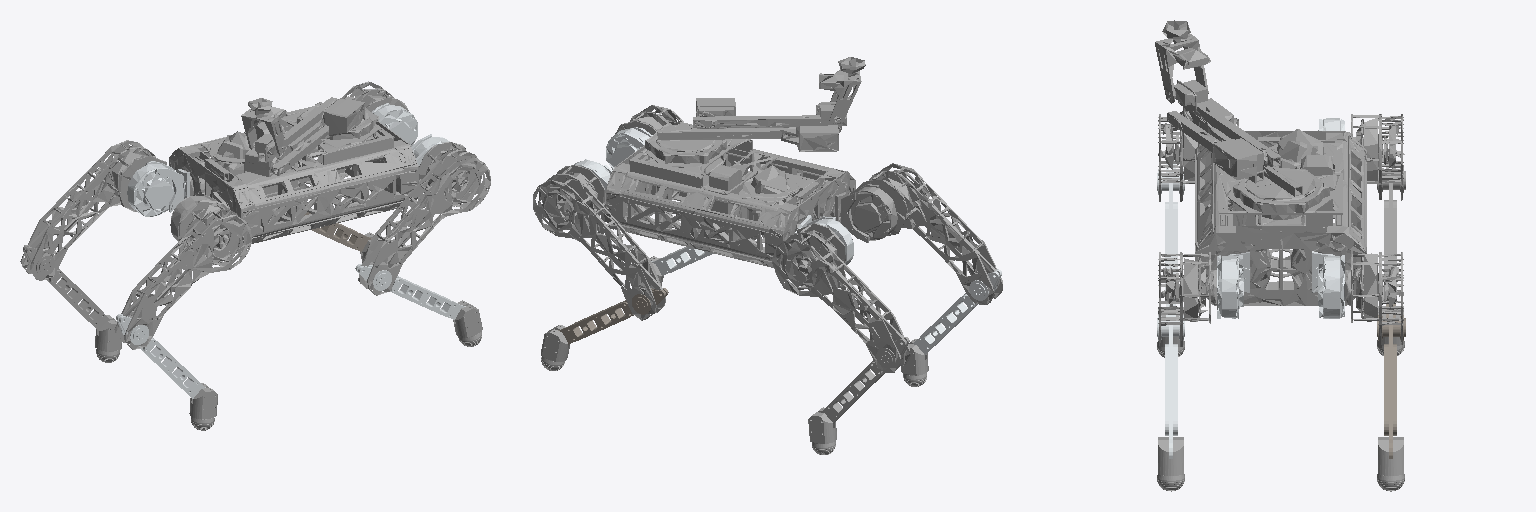
URDF robot description (dog3_arm):
<?xml version="1.0" encoding="utf-8"?>
<!-- This URDF was automatically created by SolidWorks to URDF Exporter! Originally created by Stephen Brawner (brawner@gmail.com) 
     Commit Version: 1.6.0-4-g7f85cfe  Build Version: 1.6.7995.38578
     For more information, please see http://wiki.ros.org/sw_urdf_exporter -->
<robot
  name="dog3_arm">
  <link
    name="base">
    <inertial>
      <origin
        xyz="0.035252 0.004313 0.0946672052498224"
        rpy="0 0 0" />
      <mass
        value="7.24597891756188" />
      <inertia
        ixx="0.057234"
        ixy="-0.000124"
        ixz="-0.034704"
        iyy="0.203287"
        iyz="-0.001212"
        izz="0.208364" />
    </inertial>
    <visual>
      <origin
        xyz="0 0 0"
        rpy="0 0 0" />
      <geometry>
        <mesh
          filename="package://dog3_arm/meshes/base_link.stl" />
      </geometry>
      <material
        name="">
        <color
          rgba="0.698039215686274 0.698039215686274 0.698039215686274 1" />
      </material>
    </visual>
    <collision>
      <origin
        xyz="0 0 0"
        rpy="0 0 0" />
      <geometry>
        <mesh
          filename="package://dog3_arm/meshes/base_link.stl" />
      </geometry>
    </collision>
  </link>
  <link
    name="FL_hip">
    <inertial>
      <origin
        xyz="0.009270 -0.000389 0.046230"
        rpy="0 0 0" />
      <mass
        value="0.742831583247133" />
      <inertia
        ixx="0.000975"
        ixy="-0.000005"
        ixz="-0.000026"
        iyy="0.000636"
        iyz="0.000000"
        izz="0.000507" />
    </inertial>
    <visual>
      <origin
        xyz="0 0 0"
        rpy="0 0 0" />
      <geometry>
        <mesh
          filename="package://dog3_arm/meshes/left_front1.stl" />
      </geometry>
      <material
        name="">
        <color
          rgba="0.898039215686275 0.917647058823529 0.929411764705882 1" />
      </material>
    </visual>
    <collision>
      <origin
        xyz="0 0 0"
        rpy="0 0 0" />
      <geometry>
        <mesh
          filename="package://dog3_arm/meshes/left_front1.stl" />
      </geometry>
    </collision>
  </link>
  <joint
    name="FL_hip_joint"
    type="revolute">
    <origin
      xyz="0.198599827436973 0.0699998874434311 0.0620002761469703"
      rpy="1.5707963267949 0 1.5707963267949" />
    <parent
      link="base" />
    <child
      link="FL_hip" />
    <axis
      xyz="0 0 1" />
    <limit
      lower="-0.7"
      upper="1.5"
      effort="30"
      velocity="30" />
  </joint>
  <link
    name="FL_thigh">
    <inertial>
      <origin
        xyz="0.026990 0.004545 0.041077"
        rpy="0 0 0" />
      <mass
        value="1.18836148782368" />
      <inertia
        ixx="0.001301"
        ixy="-0.000458"
        ixz="-0.000702"
        iyy="0.005001"
        iyz="-0.000121"
        izz="0.005249" />
    </inertial>
    <visual>
      <origin
        xyz="0 0 0"
        rpy="0 0 0" />
      <geometry>
        <mesh
          filename="package://dog3_arm/meshes/left_front2.stl" />
      </geometry>
      <material
        name="">
        <color
          rgba="0.698039215686274 0.698039215686274 0.698039215686274 1" />
      </material>
    </visual>
    <collision>
      <origin
        xyz="0 0 0"
        rpy="0 0 0" />
      <geometry>
        <mesh
          filename="package://dog3_arm/meshes/left_front2.stl" />
      </geometry>
    </collision>
  </link>
  <joint
    name="FL_thigh_joint"
    type="revolute">
    <origin
      xyz="0.0358 0 0.0530001125564165"
      rpy="-1.57079632679489 0.862002562998004 -1.5707963267949" />
    <parent
      link="FL_hip" />
    <child
      link="FL_thigh" />
    <axis
      xyz="0 0 1" />
    <limit
      lower="-2.4"
      upper="2.4"
      effort="30"
      velocity="30" />
  </joint>
  <link
    name="FL_calf">
    <inertial>
      <origin
        xyz="0.050122 0.000000 -0.016133"
        rpy="0 0 0" />
      <mass
        value="0.239198906199937" />
      <inertia
        ixx="0.000050"
        ixy="0.000000"
        ixz="0.000001、"
        iyy="0.001375"
        iyz="0.000000"
        izz="0.001370" />
    </inertial>
    <visual>
      <origin
        xyz="0 0 0"
        rpy="0 0 0" />
      <geometry>
        <mesh
          filename="package://dog3_arm/meshes/left_front3.stl" />
      </geometry>
      <material
        name="">
        <color
          rgba="0.647058823529412 0.619607843137255 0.588235294117647 1" />
      </material>
    </visual>
    <collision>
      <origin
        xyz="0 0 0"
        rpy="0 0 0" />
      <geometry>
        <mesh
          filename="package://dog3_arm/meshes/left_front3.stl" />
      </geometry>
    </collision>
  </link>
  <joint
    name="FL_calf_joint"
    type="revolute">
    <origin
      xyz="0.229999871872566 0 0.0797500000002906"
      rpy="0 0 -1.84947207075745" />
    <parent
      link="FL_thigh" />
    <child
      link="FL_calf" />
    <axis
      xyz="0 0 1" />
    <limit
      lower="-1.1"
      upper="1.1"
      effort="30"
      velocity="30" />
  </joint>
  <link
    name="FL_foot">
    <inertial>
      <origin
        xyz="-0.007799 -0.000002 0.037914"
        rpy="0 0 0" />
      <mass
        value="0.0835602371686811" />
      <inertia
        ixx="0.000048"
        ixy="0.000000"
        ixz="0.000006"
        iyy="0.000051"
        iyz="0.000000"
        izz="0.000023" />
    </inertial>
    <visual>
      <origin
        xyz="0 0 0"
        rpy="0 0 0" />
      <geometry>
        <mesh
          filename="package://dog3_arm/meshes/left_front4.stl" />
      </geometry>
      <material
        name="">
        <color
          rgba="0.698039215686274 0.698039215686274 0.698039215686274 1" />
      </material>
    </visual>
    <collision>
      <origin
        xyz="0 0 0"
        rpy="0 0 0" />
      <geometry>
        <mesh
          filename="package://dog3_arm/meshes/left_front4.stl" />
      </geometry>
    </collision>
  </link>
  <joint
    name="FL_foot_joint"
    type="fixed">
    <origin
      xyz="0.26744 0.042436 -0.0161"
      rpy="1.5708 0 -0.58333" />
    <parent
      link="FL_calf" />
    <child
      link="FL_foot" />
    <axis
      xyz="0 0 0" />
  </joint>
  <link
    name="FR_hip">
    <inertial>
      <origin
        xyz="0.009270 -0.000281 0.046395"
        rpy="0 0 0" />
      <mass
        value="0.742831583203656" />
      <inertia
        ixx="0.000976"
        ixy="-0.000004"
        ixz="-0.000024"
        iyy="0.000637"
        iyz="0.000000"
        izz="0.000507" />
    </inertial>
    <visual>
      <origin
        xyz="0 0 0"
        rpy="0 0 0" />
      <geometry>
        <mesh
          filename="package://dog3_arm/meshes/right_front1.stl" />
      </geometry>
      <material
        name="">
        <color
          rgba="0.898039215686275 0.917647058823529 0.929411764705882 1" />
      </material>
    </visual>
    <collision>
      <origin
        xyz="0 0 0"
        rpy="0 0 0" />
      <geometry>
        <mesh
          filename="package://dog3_arm/meshes/right_front1.stl" />
      </geometry>
    </collision>
  </link>
  <joint
    name="FR_hip_joint"
    type="revolute">
    <origin
      xyz="0.198600112556418 -0.0700000000000034 0.0620005478797402"
      rpy="-1.5707963267949 0 -1.5707963267949" />
    <parent
      link="base" />
    <child
      link="FR_hip" />
    <axis
      xyz="0 0 1" />
    <limit
      lower="-1.5"
      upper="0.7"
      effort="30"
      velocity="30" />
  </joint>
  <link
    name="FR_thigh">
    <inertial>
      <origin
        xyz="0.026617 -0.004353 0.041094"
        rpy="0 0 0" />
      <mass
        value="1.19692758787203" />
      <inertia
        ixx="0.001325"
        ixy="0.000465"
        ixz="-0.000698"
        iyy="0.005035"
        iyz="0.000120"
        izz="0.005290" />
    </inertial>
    <visual>
      <origin
        xyz="0 0 0"
        rpy="0 0 0" />
      <geometry>
        <mesh
          filename="package://dog3_arm/meshes/right_front2.stl" />
      </geometry>
      <material
        name="">
        <color
          rgba="0.698039215686274 0.698039215686274 0.698039215686274 1" />
      </material>
    </visual>
    <collision>
      <origin
        xyz="0 0 0"
        rpy="0 0 0" />
      <geometry>
        <mesh
          filename="package://dog3_arm/meshes/right_front2.stl" />
      </geometry>
    </collision>
  </link>
  <joint
    name="FR_thigh_joint"
    type="revolute">
    <origin
      xyz="0.0357999999999982 0 0.052999887443579"
      rpy="1.57079632679493 0.862002539960905 1.5707963267949" />
    <parent
      link="FR_hip" />
    <child
      link="FR_thigh" />
    <axis
      xyz="0 0 1" />
    <limit
      lower="-2.4"
      upper="2.4"
      effort="30"
      velocity="30" />
  </joint>
  <link
    name="FR_calf">
    <inertial>
      <origin
        xyz="0.050122 0.000000 -0.016133"
        rpy="0 0 0" />
      <mass
        value="0.239198906199937" />
      <inertia
        ixx="0.000050"
        ixy="0.000000"
        ixz="0.000002"
        iyy="0.001375"
        iyz="0.000000"
        izz="0.001370" />
    </inertial>
    <visual>
      <origin
        xyz="0 0 0"
        rpy="0 0 0" />
      <geometry>
        <mesh
          filename="package://dog3_arm/meshes/right_front3.stl" />
      </geometry>
      <material
        name="">
        <color
          rgba="0.898039215686275 0.917647058823529 0.929411764705882 1" />
      </material>
    </visual>
    <collision>
      <origin
        xyz="0 0 0"
        rpy="0 0 0" />
      <geometry>
        <mesh
          filename="package://dog3_arm/meshes/right_front3.stl" />
      </geometry>
    </collision>
  </link>
  <joint
    name="FR_calf_joint"
    type="revolute">
    <origin
      xyz="0.23 0 0.07975"
      rpy="0 0 1.8495" />
    <parent
      link="FR_thigh" />
    <child
      link="FR_calf" />
    <axis
      xyz="0 0 1" />
    <limit
      lower="-1.1"
      upper="1.1"
      effort="30"
      velocity="30" />
  </joint>
  <link
    name="FR_foot">
    <inertial>
      <origin
        xyz="-0.007799 -0.000002 0.037914"
        rpy="0 0 0" />
      <mass
        value="0.0835602371686811" />
      <inertia
        ixx="0.000048"
        ixy="0.000000"
        ixz="0.000006"
        iyy="0.000051"
        iyz="0.000000"
        izz="0.000023" />
    </inertial>
    <visual>
      <origin
        xyz="0 0 0"
        rpy="0 0 0" />
      <geometry>
        <mesh
          filename="package://dog3_arm/meshes/right_front4.stl" />
      </geometry>
      <material
        name="">
        <color
          rgba="0.698039215686274 0.698039215686274 0.698039215686274 1" />
      </material>
    </visual>
    <collision>
      <origin
        xyz="0 0 0"
        rpy="0 0 0" />
      <geometry>
        <mesh
          filename="package://dog3_arm/meshes/right_front4.stl" />
      </geometry>
    </collision>
  </link>
  <joint
    name="FR_foot_joint"
    type="fixed">
    <origin
      xyz="0.267435563862756 -0.0424355619855587 -0.0160999999999968"
      rpy="-1.5707963267949 0 0.58332685633883" />
    <parent
      link="FR_calf" />
    <child
      link="FR_foot" />
    <axis
      xyz="0 0 0" />
  </joint>
  <link
    name="RL_hip">
    <inertial>
      <origin
        xyz="0.009270 -0.000281 0.046395"
        rpy="0 0 0" />
      <mass
        value="0.742831583228489" />
      <inertia
        ixx="0.000976"
        ixy="-0.000004"
        ixz="-0.000024"
        iyy="0.000637"
        iyz="0.000000"
        izz="0.000507" />
    </inertial>
    <visual>
      <origin
        xyz="0 0 0"
        rpy="0 0 0" />
      <geometry>
        <mesh
          filename="package://dog3_arm/meshes/left_behind1.stl" />
      </geometry>
      <material
        name="">
        <color
          rgba="0.898039215686275 0.917647058823529 0.929411764705882 1" />
      </material>
    </visual>
    <collision>
      <origin
        xyz="0 0 0"
        rpy="0 0 0" />
      <geometry>
        <mesh
          filename="package://dog3_arm/meshes/left_behind1.stl" />
      </geometry>
    </collision>
  </link>
  <joint
    name="RL_hip_joint"
    type="revolute">
    <origin
      xyz="-0.1986 0.07 0.062"
      rpy="-1.5708 0 1.5708" />
    <parent
      link="base" />
    <child
      link="RL_hip" />
    <axis
      xyz="0 0 1" />
    <limit
      lower="-1.5"
      upper="0.7"
      effort="30"
      velocity="30" />
  </joint>
  <link
    name="RL_thigh">
    <inertial>
      <origin
        xyz="0.026614 0.004550 0.040986"
        rpy="0 0 0" />
      <mass
        value="1.18836148538932" />
      <inertia
        ixx="0.001310"
        ixy="-0.000448"
        ixz="-0.000695"
        iyy="0.004951"
        iyz="-0.000121"
        izz="0.005198" />
    </inertial>
    <visual>
      <origin
        xyz="0 0 0"
        rpy="0 0 0" />
      <geometry>
        <mesh
          filename="package://dog3_arm/meshes/left_behind2.stl" />
      </geometry>
      <material
        name="">
        <color
          rgba="0.698039215686274 0.698039215686274 0.698039215686274 1" />
      </material>
    </visual>
    <collision>
      <origin
        xyz="0 0 0"
        rpy="0 0 0" />
      <geometry>
        <mesh
          filename="package://dog3_arm/meshes/left_behind2.stl" />
      </geometry>
    </collision>
  </link>
  <joint
    name="RL_thigh_joint"
    type="revolute">
    <origin
      xyz="0.0358000000000075 0 0.0530000000000009"
      rpy="1.57079632679488 -0.927389062037504 1.5707963267949" />
    <parent
      link="RL_hip" />
    <child
      link="RL_thigh" />
    <axis
      xyz="0 0 1" />
    <limit
      lower="-2.4"
      upper="2.4"
      effort="30"
      velocity="30" />
  </joint>
  <link
    name="RL_calf">
    <inertial>
      <origin
        xyz="0.050122 0.000000 -0.016133"
        rpy="0 0 0" />
      <mass
        value="0.239198906199937" />
      <inertia
        ixx="0.000050"
        ixy="0.000000"
        ixz="0.000001"
        iyy="0.001375"
        iyz="0.000000"
        izz="0.001370" />
    </inertial>
    <visual>
      <origin
        xyz="0 0 0"
        rpy="0 0 0" />
      <geometry>
        <mesh
          filename="package://dog3_arm/meshes/left_behind3.stl" />
      </geometry>
      <material
        name="">
        <color
          rgba="0.698039215686274 0.698039215686274 0.698039215686274 1" />
      </material>
    </visual>
    <collision>
      <origin
        xyz="0 0 0"
        rpy="0 0 0" />
      <geometry>
        <mesh
          filename="package://dog3_arm/meshes/left_behind3.stl" />
      </geometry>
    </collision>
  </link>
  <joint
    name="RL_calf_joint"
    type="revolute">
    <origin
      xyz="0.23 0 0.07975"
      rpy="0 0 -1.6285" />
    <parent
      link="RL_thigh" />
    <child
      link="RL_calf" />
    <axis
      xyz="0 0 1" />
    <limit
      lower="-1.1"
      upper="1.1"
      effort="30"
      velocity="30" />
  </joint>
  <link
    name="RL_foot">
    <inertial>
      <origin
        xyz="0.003227 -0.000002 0.038574"
        rpy="0 0 0" />
      <mass
        value="0.0835602371658815" />
      <inertia
        ixx="0.000049"
        ixy="0.000000"
        ixz="-0.000002"
        iyy="0.000051"
        iyz="0.000000"
        izz="0.000022" />
    </inertial>
    <visual>
      <origin
        xyz="0 0 0"
        rpy="0 0 0" />
      <geometry>
        <mesh
          filename="package://dog3_arm/meshes/left_behind4.stl" />
      </geometry>
      <material
        name="">
        <color
          rgba="0.698039215686274 0.698039215686274 0.698039215686274 1" />
      </material>
    </visual>
    <collision>
      <origin
        xyz="0 0 0"
        rpy="0 0 0" />
      <geometry>
        <mesh
          filename="package://dog3_arm/meshes/left_behind4.stl" />
      </geometry>
    </collision>
  </link>
  <joint
    name="RL_foot_joint"
    type="fixed">
    <origin
      xyz="0.267435561972383 0.0424355619724067 -0.0163999999999569"
      rpy="1.57079632679489 0 -0.869656601890728" />
    <parent
      link="RL_calf" />
    <child
      link="RL_foot" />
    <axis
      xyz="0 0 0" />
  </joint>
  <link
    name="RR_hip">
    <inertial>
      <origin
        xyz="0.009270 -0.000389 0.046229"
        rpy="0 0 0" />
      <mass
        value="0.742831583256368" />
      <inertia
        ixx="0.000975"
        ixy="-0.000005"
        ixz="-0.000026"
        iyy="0.000636"
        iyz="0.000000"
        izz="0.000507" />
    </inertial>
    <visual>
      <origin
        xyz="0 0 0"
        rpy="0 0 0" />
      <geometry>
        <mesh
          filename="package://dog3_arm/meshes/right_behind1.stl" />
      </geometry>
      <material
        name="">
        <color
          rgba="0.698039215686274 0.698039215686274 0.698039215686274 1" />
      </material>
    </visual>
    <collision>
      <origin
        xyz="0 0 0"
        rpy="0 0 0" />
      <geometry>
        <mesh
          filename="package://dog3_arm/meshes/right_behind1.stl" />
      </geometry>
    </collision>
  </link>
  <joint
    name="RR_hip_joint"
    type="revolute">
    <origin
      xyz="-0.1986 -0.0700000000000039 0.0620000000000056"
      rpy="1.5707963267949 0 -1.5707963267949" />
    <parent
      link="base" />
    <child
      link="RR_hip" />
    <axis
      xyz="0 0 1" />
    <limit
      lower="-0.7"
      upper="1.5"
      effort="30"
      velocity="30" />
  </joint>
  <link
    name="RR_thigh">
    <inertial>
      <origin
        xyz="0.026524 -0.004310 0.041195"
        rpy="0 0 0" />
      <mass
        value="1.19692759833734" />
      <inertia
        ixx="0.001323"
        ixy="0.000461"
        ixz="-0.000684"
        iyy="0.004961"
        iyz="0.000122"
        izz="0.005224" />
    </inertial>
    <visual>
      <origin
        xyz="0 0 0"
        rpy="0 0 0" />
      <geometry>
        <mesh
          filename="package://dog3_arm/meshes/right_behind2.stl" />
      </geometry>
      <material
        name="">
        <color
          rgba="0.698039215686274 0.698039215686274 0.698039215686274 1" />
      </material>
    </visual>
    <collision>
      <origin
        xyz="0 0 0"
        rpy="0 0 0" />
      <geometry>
        <mesh
          filename="package://dog3_arm/meshes/right_behind2.stl" />
      </geometry>
    </collision>
  </link>
  <joint
    name="RR_thigh_joint"
    type="revolute">
    <origin
      xyz="0.0358 0 0.053"
      rpy="-1.5708 -0.91598 -1.5708" />
    <parent
      link="RR_hip" />
    <child
      link="RR_thigh" />
    <axis
      xyz="0 0 1" />
    <limit
      lower="-2.4"
      upper="2.4"
      effort="30"
      velocity="30" />
  </joint>
  <link
    name="RR_calf">
    <inertial>
      <origin
        xyz="0.050122 0.000000 -0.016133"
        rpy="0 0 0" />
      <mass
        value="0.239198906199937" />
      <inertia
        ixx="0.000050"
        ixy="0.000000"
        ixz="0.000002"
        iyy="0.001375"
        iyz="0.000000"
        izz="0.001370" />
    </inertial>
    <visual>
      <origin
        xyz="0 0 0"
        rpy="0 0 0" />
      <geometry>
        <mesh
          filename="package://dog3_arm/meshes/right_behind3.stl" />
      </geometry>
      <material
        name="">
        <color
          rgba="0.898039215686275 0.917647058823529 0.929411764705882 1" />
      </material>
    </visual>
    <collision>
      <origin
        xyz="0 0 0"
        rpy="0 0 0" />
      <geometry>
        <mesh
          filename="package://dog3_arm/meshes/right_behind3.stl" />
      </geometry>
    </collision>
  </link>
  <joint
    name="RR_calf_joint"
    type="revolute">
    <origin
      xyz="0.23 0 0.07975"
      rpy="0 0 1.6286" />
    <parent
      link="RR_thigh" />
    <child
      link="RR_calf" />
    <axis
      xyz="0 0 1" />
    <limit
      lower="-1.1"
      upper="1.1"
      effort="30"
      velocity="30" />
  </joint>
  <link
    name="RR_foot">
    <inertial>
      <origin
        xyz="0.002785 -0.000002 0.038608"
        rpy="0 0 0" />
      <mass
        value="0.0835602371656224" />
      <inertia
        ixx="0.000049"
        ixy="0.000000"
        ixz="-0.000002"
        iyy="0.000051"
        iyz="0.000000"
        izz="0.000022" />
    </inertial>
    <visual>
      <origin
        xyz="0 0 0"
        rpy="0 0 0" />
      <geometry>
        <mesh
          filename="package://dog3_arm/meshes/right_behind4.stl" />
      </geometry>
      <material
        name="">
        <color
          rgba="0.698039215686274 0.698039215686274 0.698039215686274 1" />
      </material>
    </visual>
    <collision>
      <origin
        xyz="0 0 0"
        rpy="0 0 0" />
      <geometry>
        <mesh
          filename="package://dog3_arm/meshes/right_behind4.stl" />
      </geometry>
    </collision>
  </link>
  <joint
    name="RR_foot_joint"
    type="fixed">
    <origin
      xyz="0.26744 -0.042436 -0.0161"
      rpy="-1.5708 0 0.85822" />
    <parent
      link="RR_calf" />
    <child
      link="RR_foot" />
    <axis
      xyz="0 0 0" />
  </joint>
</robot>

--- Render facts (derived) ---
3 views of the same robot in one strip: view 1: azimuth 30°, elevation 25°; view 2: azimuth 150°, elevation 25°; view 3: azimuth 270°, elevation 25° (orthographic).
Model dog3_arm with 17 links and 16 joints (12 revolute, 4 fixed), rooted at base, posed all joints at 0.
Visible links, largest first — view 1: base, RR_thigh, FR_thigh, RL_thigh, RL_hip, FR_calf, RR_calf, RL_calf, FL_hip, RR_foot, FR_foot, FL_thigh (+3 smaller); view 2: base, RL_thigh, FL_thigh, RR_thigh, RR_hip, FL_calf, RR_calf, RL_calf, FR_hip, FR_thigh, RL_foot, FL_foot (+3 smaller); view 3: base, FL_thigh, FR_thigh, RL_thigh, FL_hip, RR_thigh, FR_hip, FL_calf, FR_calf, FL_foot, FR_foot, RR_calf (+1 smaller).
Link boxes in pixels (x1,y1,x2,y2): base: [169, 96, 418, 243]; RR_thigh: [114, 200, 251, 349]; FR_thigh: [358, 142, 490, 295]; RL_thigh: [20, 140, 166, 280]; RL_hip: [127, 161, 189, 216]; FR_calf: [355, 264, 465, 319]; RR_calf: [116, 314, 205, 398]; RL_calf: [23, 245, 109, 331]; FL_hip: [372, 103, 417, 146]; RR_foot: [189, 383, 217, 430]; FR_foot: [453, 300, 482, 346]; FL_thigh: [292, 81, 408, 203]; base: [605, 57, 865, 269]; RL_thigh: [771, 223, 910, 372]; FL_thigh: [533, 165, 665, 320]; RR_thigh: [857, 163, 1002, 304]; RR_hip: [835, 184, 897, 242]; FL_calf: [558, 288, 668, 344]; RR_calf: [913, 269, 1001, 354]; RL_calf: [819, 337, 909, 423]; FR_hip: [606, 127, 652, 169]; FR_thigh: [615, 105, 756, 239]; RL_foot: [808, 407, 836, 454]; FL_foot: [541, 325, 569, 370]; base: [1155, 20, 1366, 305]; FL_thigh: [1345, 251, 1403, 347]; FR_thigh: [1158, 252, 1217, 347]; RL_thigh: [1345, 114, 1404, 200]; FL_hip: [1312, 251, 1344, 318]; RR_thigh: [1158, 114, 1200, 201]; FR_hip: [1217, 252, 1249, 318]; FL_calf: [1377, 304, 1405, 458]; FR_calf: [1157, 304, 1184, 458]; FL_foot: [1377, 437, 1404, 491]; FR_foot: [1157, 437, 1184, 491]; RR_calf: [1157, 160, 1184, 316].
Bounding box of the posed robot: 0.7775 × 0.3869 × 0.63 m (x, y, z).
Meshes: 17 distinct files referenced, 17 mesh visuals loaded (17 binary STL).
